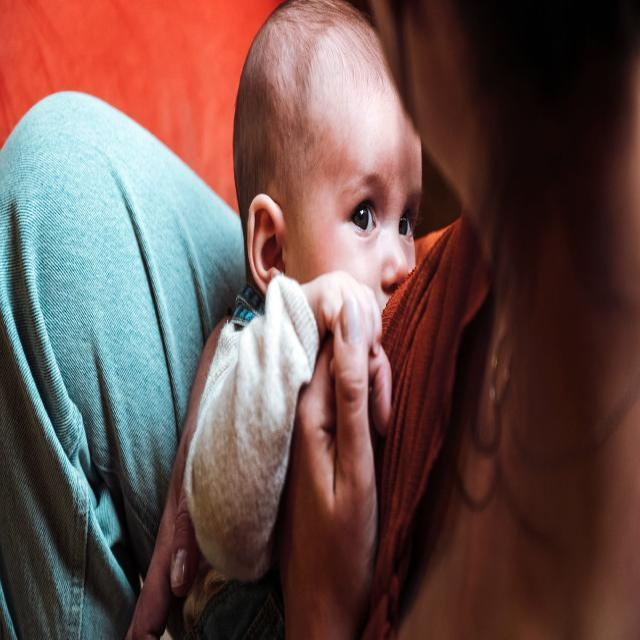non-dog: (1, 0, 640, 640), (129, 5, 424, 640)
